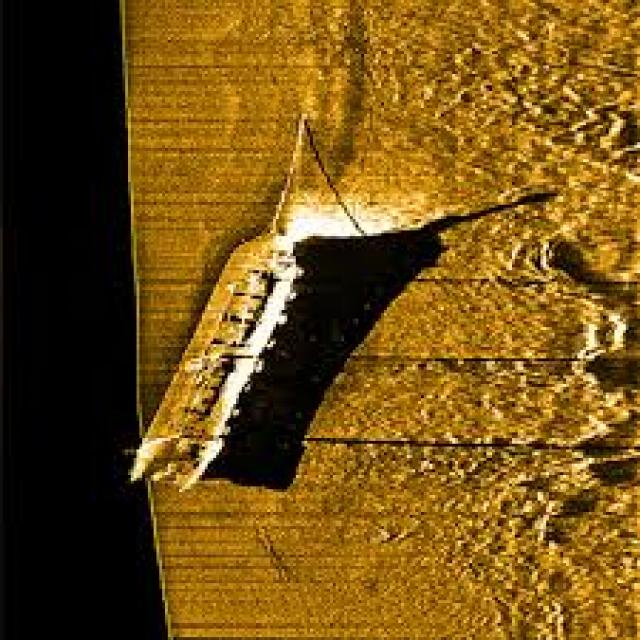ship: (119, 165, 316, 486)
